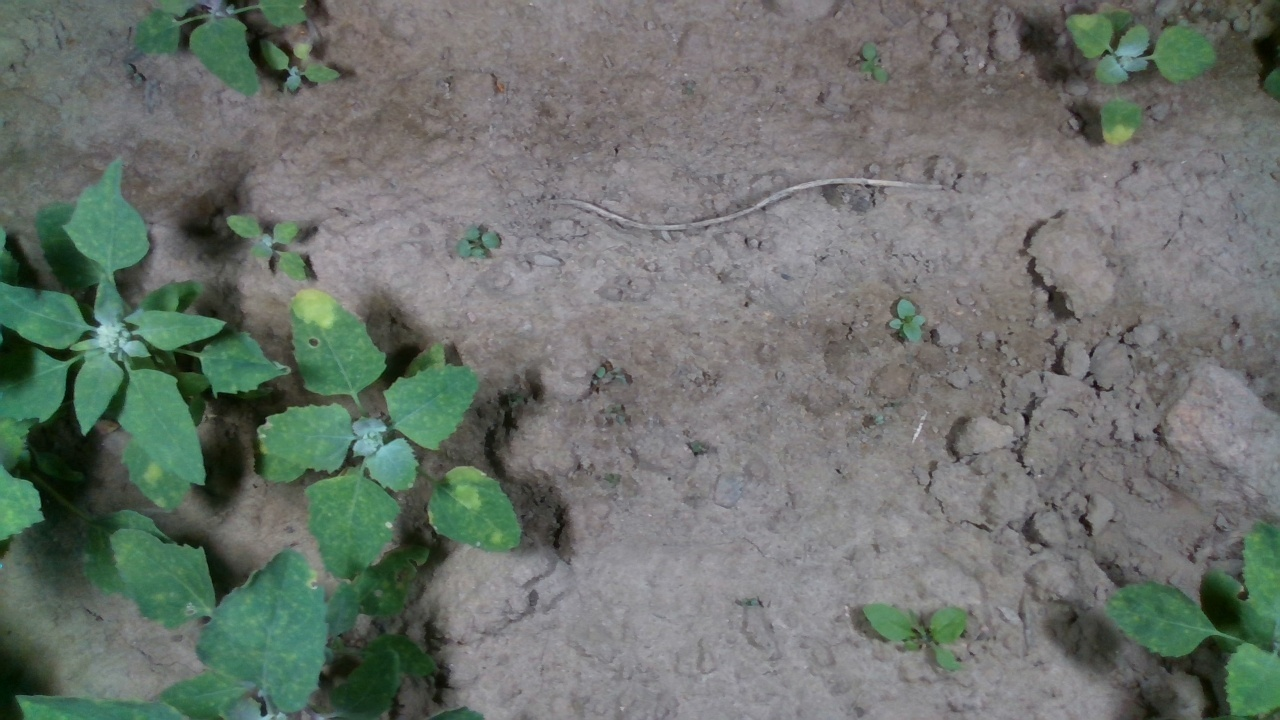weed: (857, 599, 964, 676), (884, 295, 923, 346), (457, 222, 498, 264), (856, 41, 888, 87), (736, 593, 767, 610)
